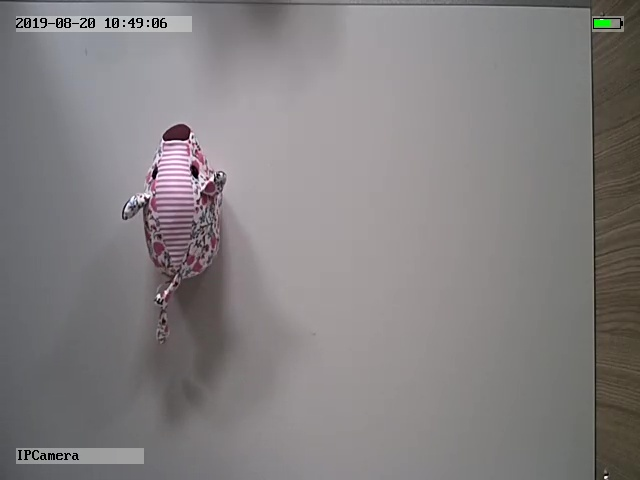pig: (122, 123, 226, 344)
